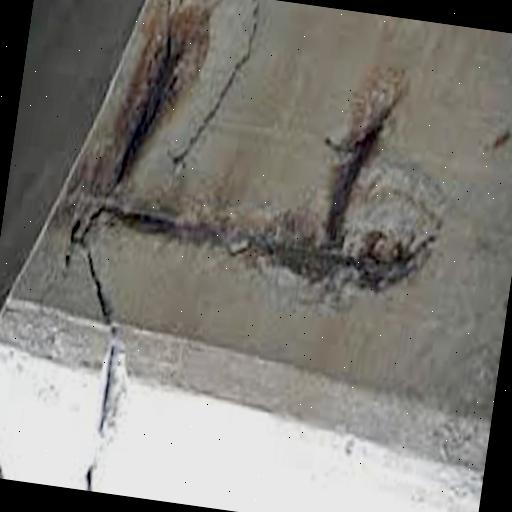spalling: (65, 19, 444, 305), (156, 0, 271, 177), (72, 244, 148, 487)
